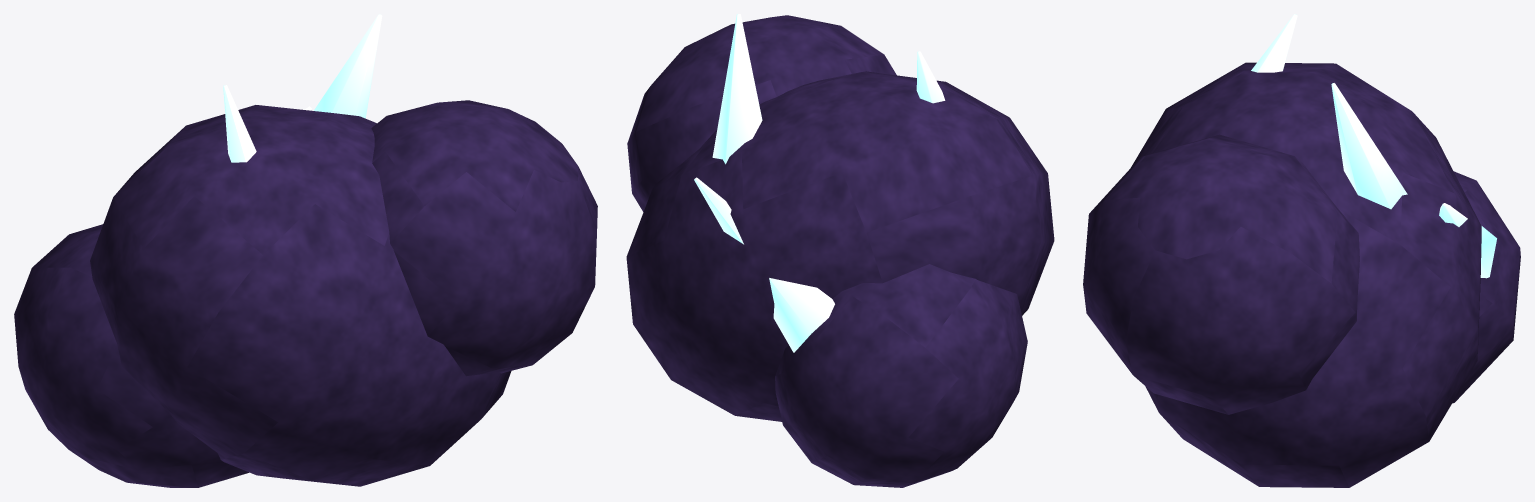
Rendered from prop_asteroid.glb.
3 views of the same model, side by side, from view 1: azimuth 30°, elevation 25°; view 2: azimuth 150°, elevation 25°; view 3: azimuth 270°, elevation 25° (orthographic). The views are drawn at different scales.
Parts seen in each view (by area): view 1: AstBody1; view 2: AstBody1; view 3: AstBody1.
Part boxes in pixels (bbox=[...]): AstBody1: bbox=[14, 14, 597, 487]; AstBody1: bbox=[626, 14, 1054, 487]; AstBody1: bbox=[1083, 14, 1520, 487].
Size of the model in its own units: 13.96 by 12.38 by 11.93.
Materials: 2 (1 with a texture image).
